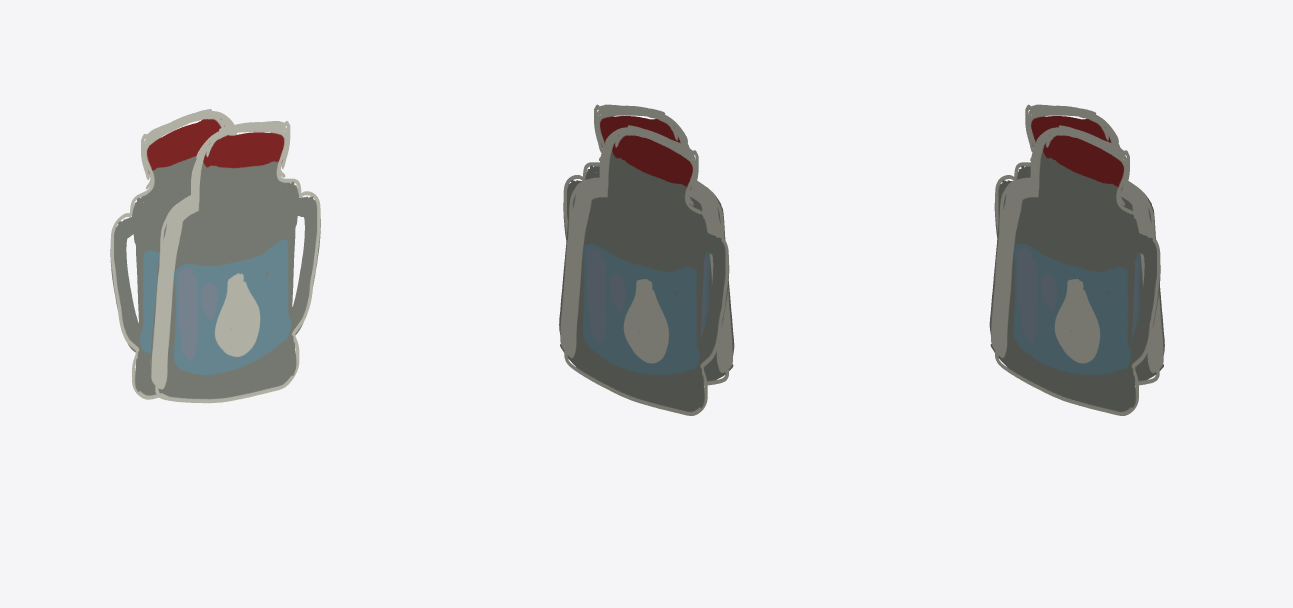
Rendered from prodpin-milch.fbx.
3 renders of one model, left to right at view 1: azimuth 30°, elevation 25°; view 2: azimuth 150°, elevation 25°; view 3: azimuth 330°, elevation 25°, orthographic.
Parts seen in each view (by area): view 1: ProdPIn; view 2: ProdPIn; view 3: ProdPIn.
Part boxes in pixels (bbox=[...]): ProdPIn: bbox=[110, 109, 320, 403]; ProdPIn: bbox=[559, 104, 734, 415]; ProdPIn: bbox=[989, 104, 1164, 415].
Bounding box in the file's own units: 200 × 268 × 20.35.
1 material, 1 textured.
